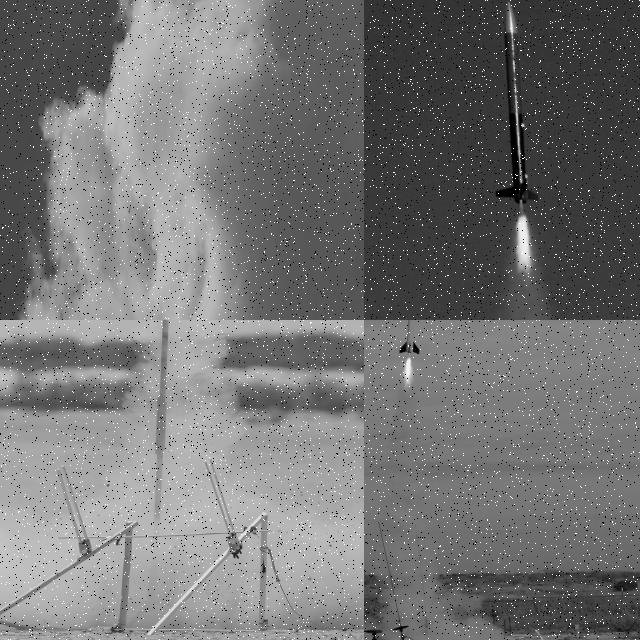Rocket: (494, 0, 540, 206), (399, 320, 421, 354), (128, 206, 131, 214)
